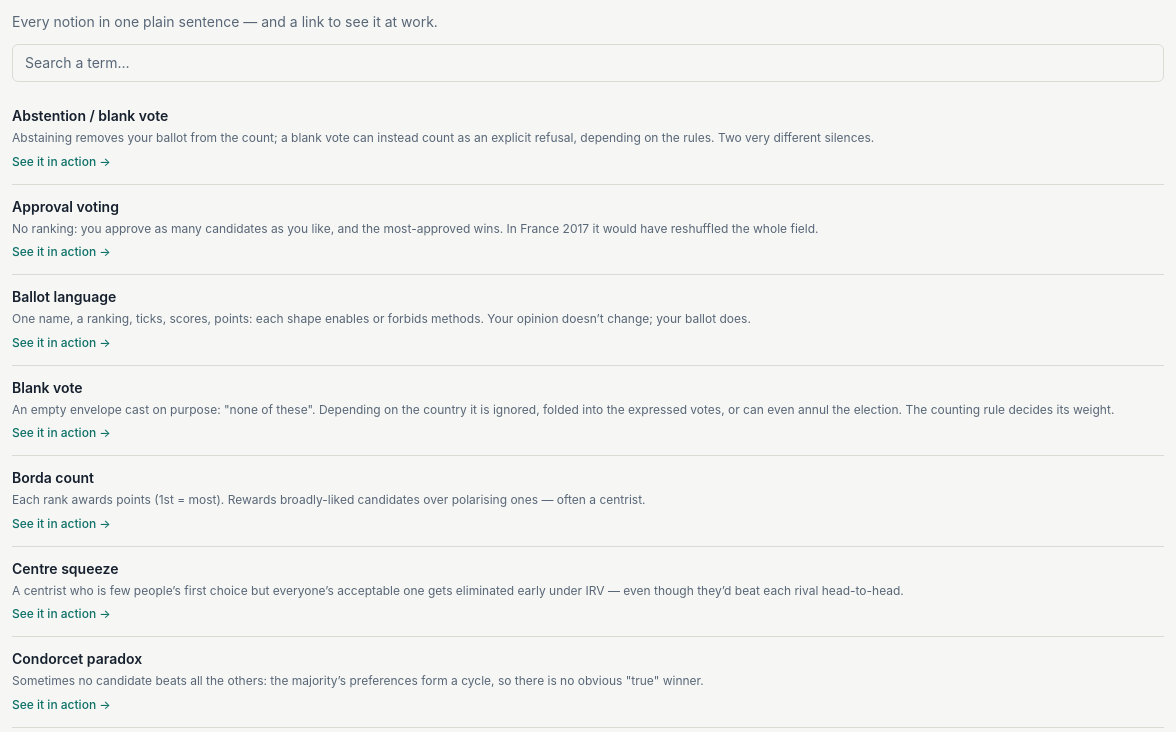
Test case: LexiquePanel › search filters the list
Type "spoiler" into the search field with test id "lexique-search" at {"x": 588, "y": 63}, box [12,44,1164,82]
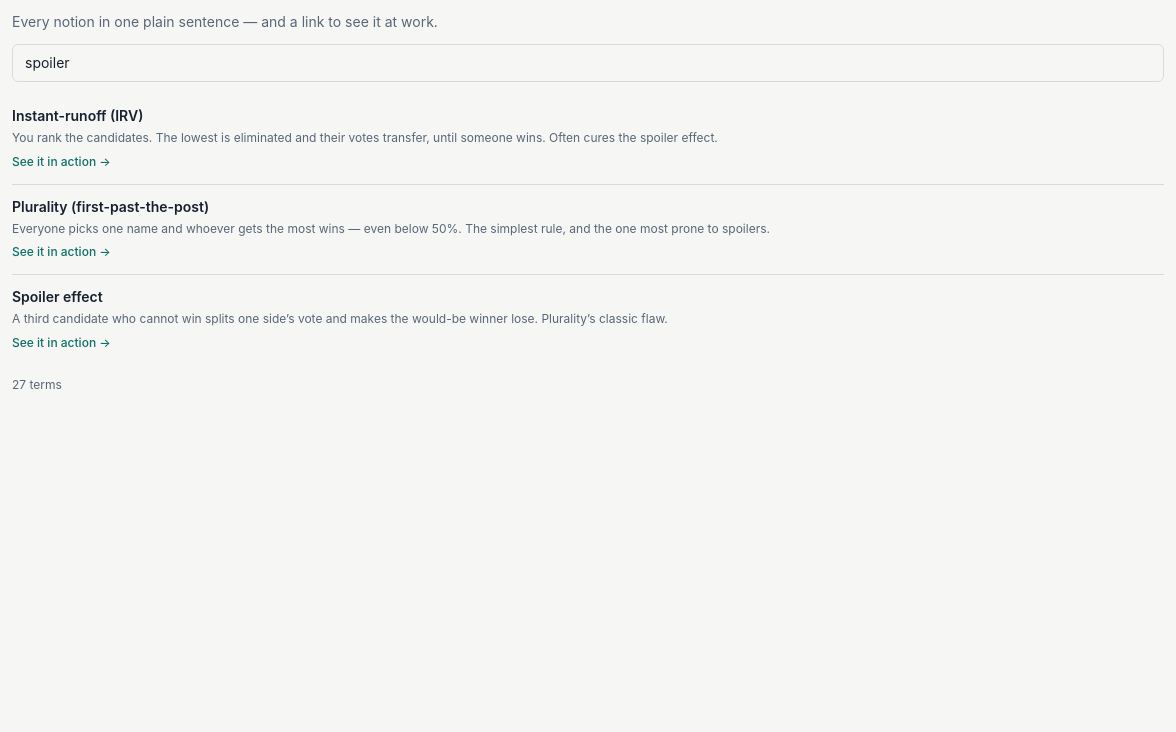
Now the element with test id "lexique-panel" shows "Spoiler effect", box [12,288,103,305]
Now the element with test id "lexique-panel" no longer shows "Condorcet winner", box [12,12,1164,392]
